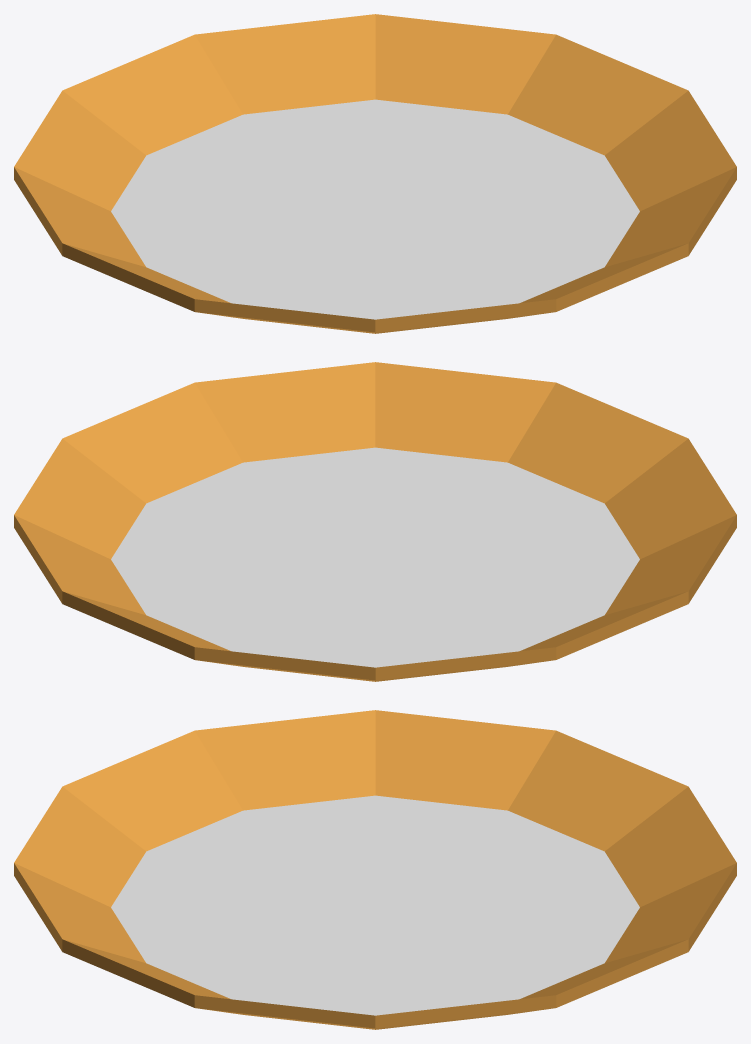
File: PlatoCeramica.fbx
3 renders of one model, top to bottom at view 1: azimuth 30°, elevation 25°; view 2: azimuth 150°, elevation 25°; view 3: azimuth 270°, elevation 25°, orthographic.
Visible parts, largest first — view 1: Cylinder, Cylinder.001; view 2: Cylinder, Cylinder.001; view 3: Cylinder, Cylinder.001.
Part boxes in pixels (box(x1,y1,x2,y2)): Cylinder: box(14, 14, 736, 333); Cylinder.001: box(111, 99, 639, 319); Cylinder: box(14, 362, 736, 681); Cylinder.001: box(111, 447, 639, 667); Cylinder: box(14, 710, 736, 1029); Cylinder.001: box(111, 795, 639, 1015).
Size of the model in its own units: 60 by 5.05 by 60.
